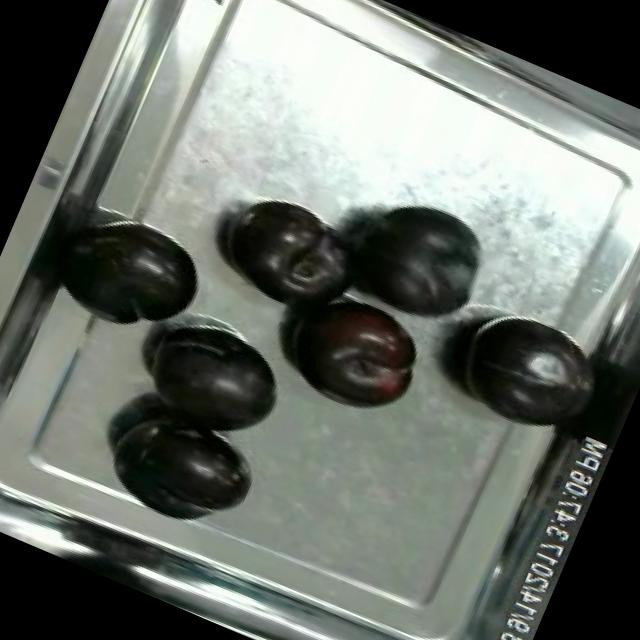Fruit: (322, 172, 506, 342), (435, 292, 615, 451), (126, 300, 302, 462), (264, 272, 440, 431), (92, 394, 266, 546), (58, 202, 222, 352), (209, 184, 371, 318)
